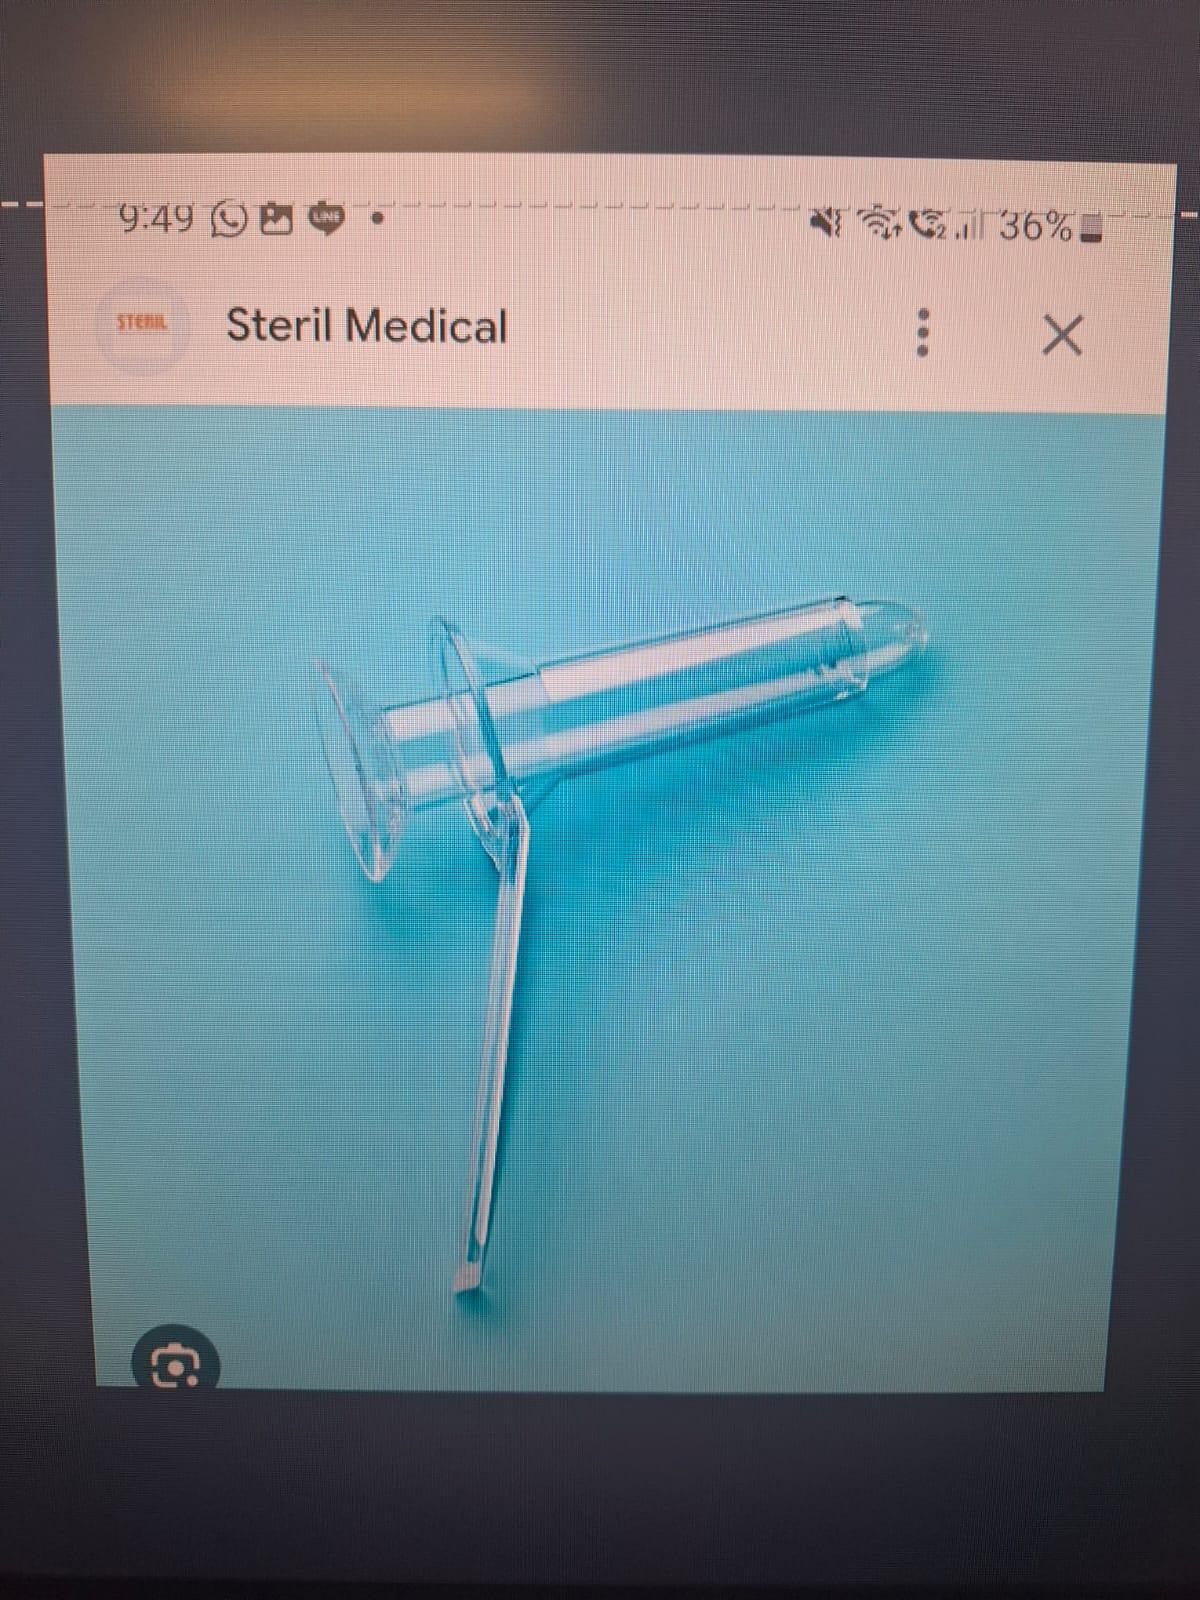Protoscope: (285, 580, 968, 1323)
